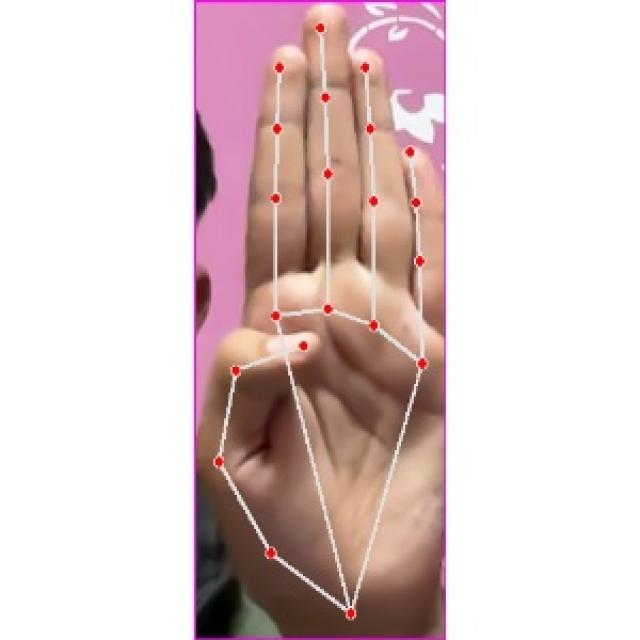B: (192, 0, 441, 640)
